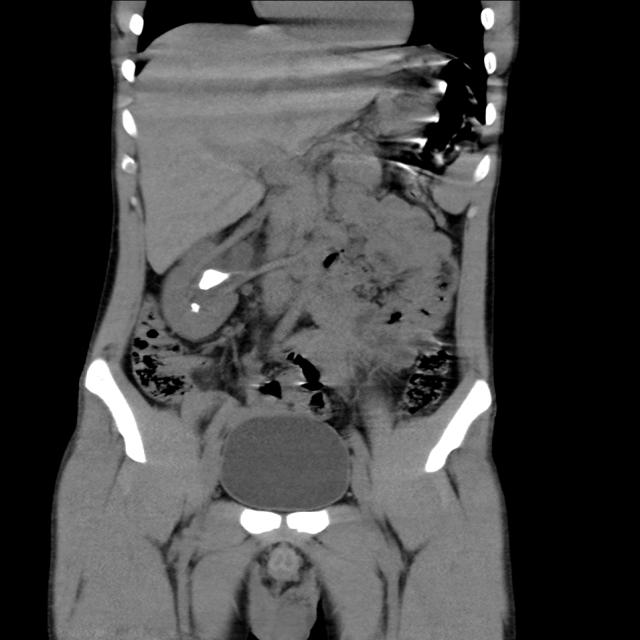kidneystone: (199, 269, 229, 290), (190, 302, 200, 312)
